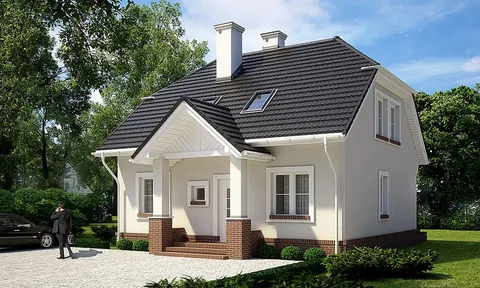private_hause: (112, 39, 425, 242)
